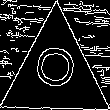O_W: (32, 50, 79, 95)
